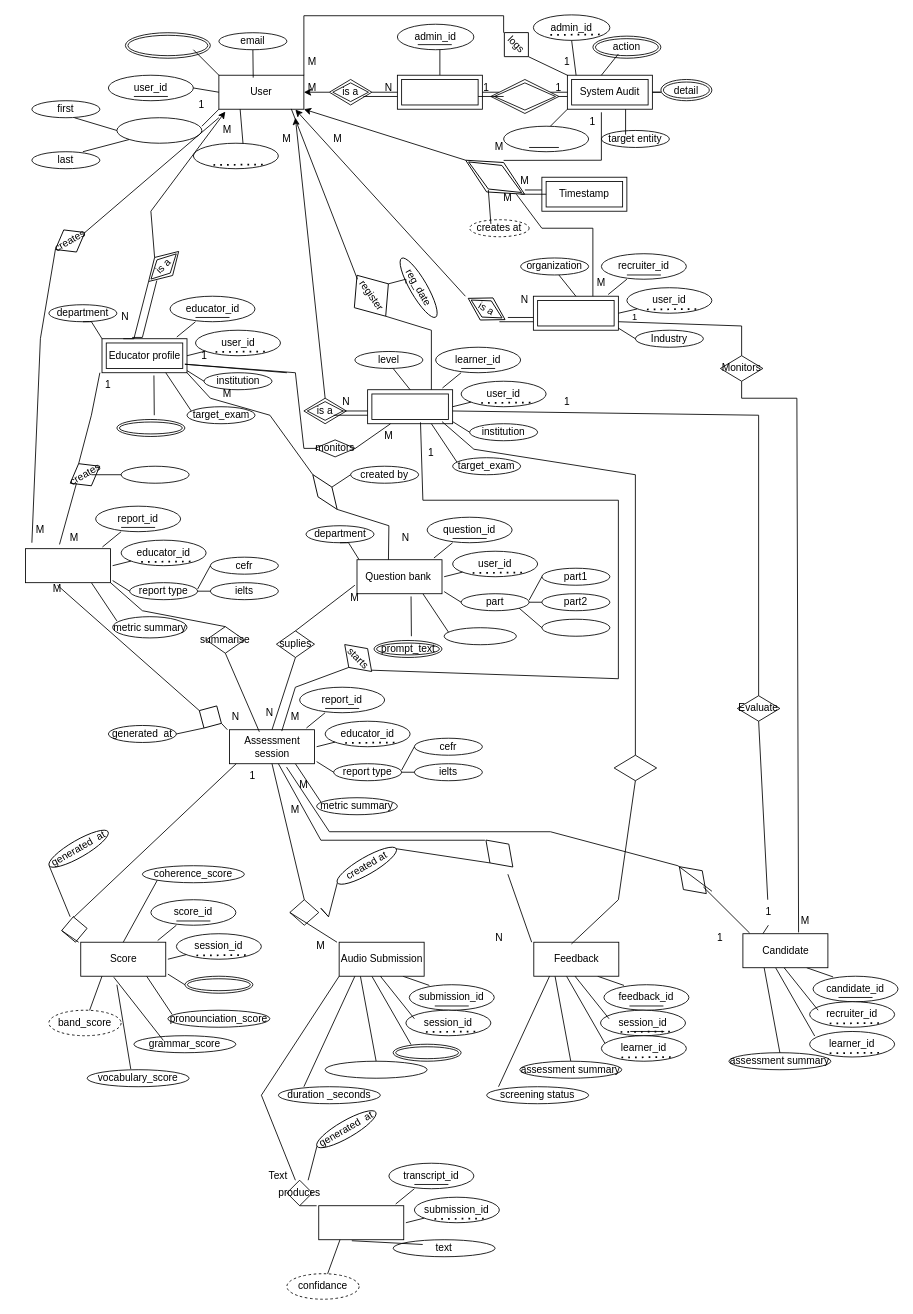
Image size: 913x1314. Some labels were removed from this diagram. The shapes that lost their labels are listed below. From the top down, each one's box as (x1, y1, x2, y2) in pixels, then its label:
(125, 32, 210, 58): role
(397, 74, 482, 109): Admin
(490, 79, 559, 113): reviews
(116, 117, 202, 143): user_name
(503, 125, 589, 152): audit_id
(193, 142, 278, 169): password
(456, 144, 533, 209): last login
(533, 295, 618, 330): Recruiter profile
(367, 389, 453, 424): learner profile
(116, 419, 185, 436): specialization
(120, 465, 189, 483): generated by
(305, 469, 344, 514): manage
(25, 548, 110, 583): Institution Report
(443, 627, 516, 645): exam alignment
(541, 618, 610, 636): part3
(613, 754, 657, 781): recives
(475, 830, 522, 877): containts
(669, 856, 716, 903): used by
(60, 915, 88, 943): recieves
(289, 899, 319, 925): contains
(184, 975, 253, 993): cefr/ielts level
(324, 1060, 427, 1078): audio_url
(392, 1043, 461, 1061): question part
(318, 1205, 404, 1240): Transcript
